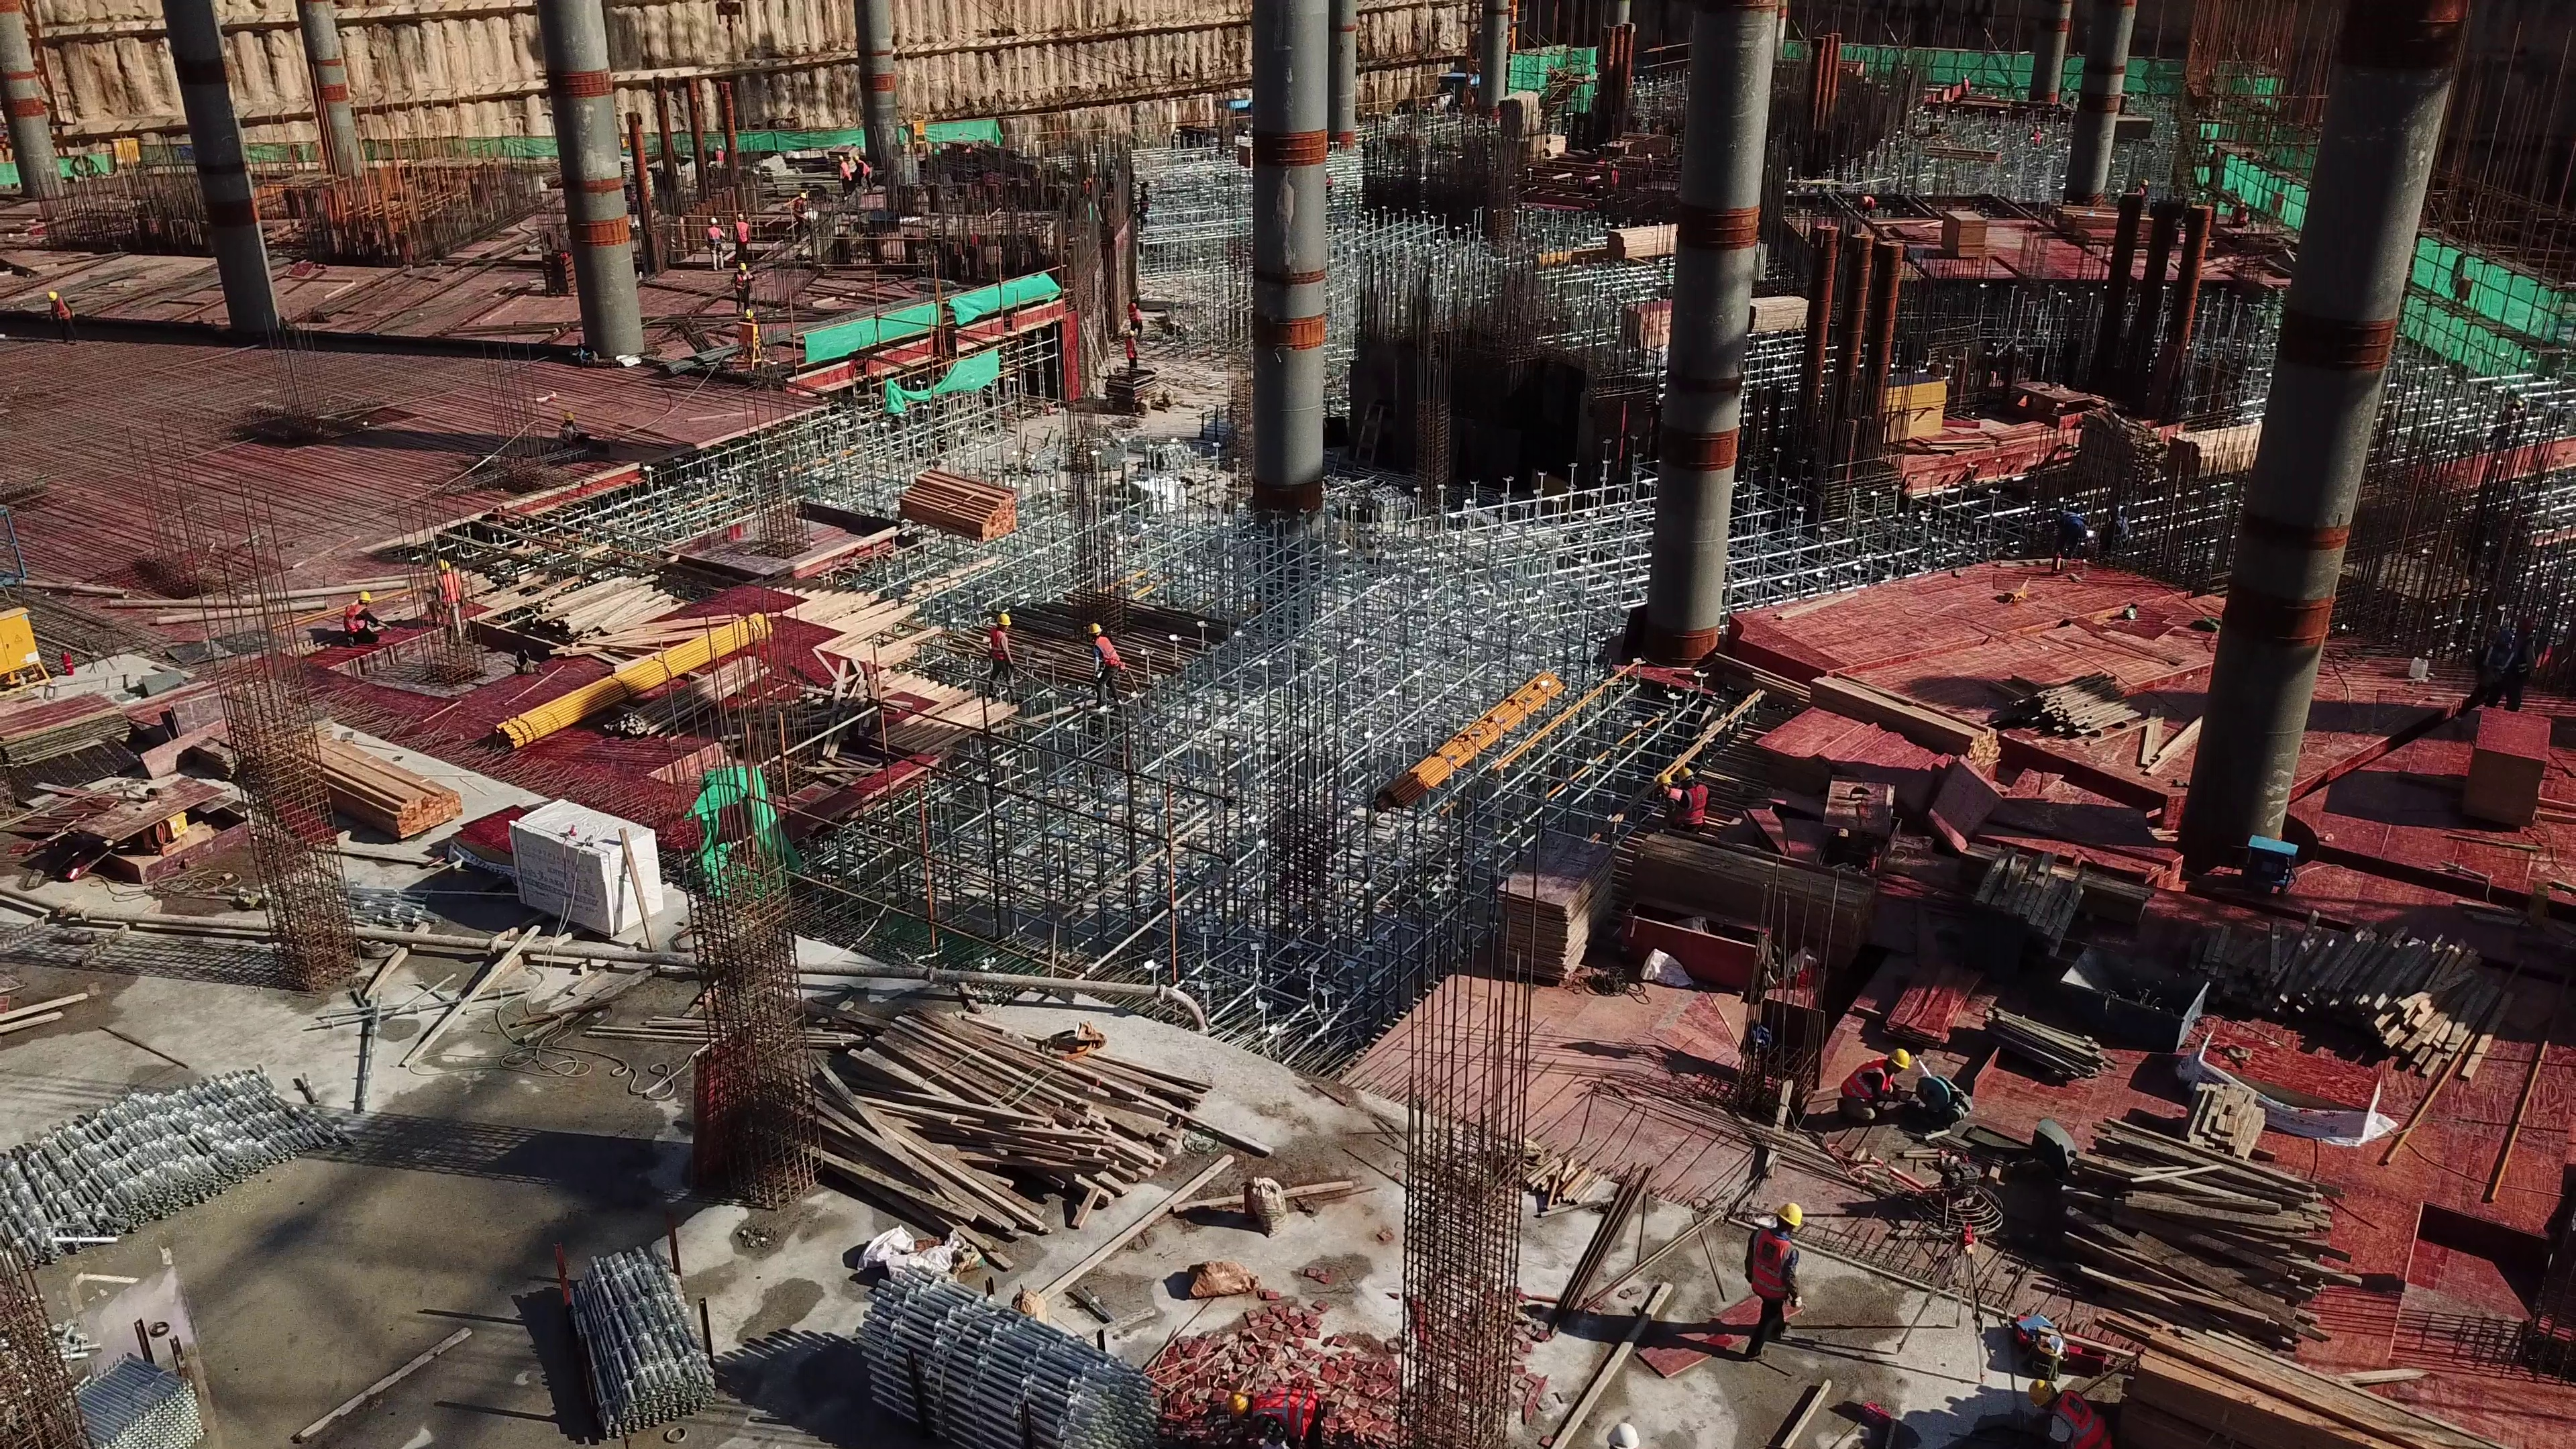board: (1761, 712, 1982, 815), (1498, 820, 1611, 982), (2463, 696, 2544, 833), (1829, 777, 1890, 854), (1943, 209, 1992, 263), (1625, 295, 1669, 352)
cutter: (1905, 1062, 1972, 1129)
ebox: (1, 600, 64, 686), (735, 321, 765, 372)
helmet: (1602, 1421, 1638, 1449), (2027, 1378, 2056, 1408), (1776, 1201, 1805, 1231), (1227, 1391, 1248, 1419), (1888, 1047, 1913, 1069), (1677, 766, 1694, 783), (1085, 622, 1101, 635), (1655, 775, 1674, 786), (996, 614, 1012, 627), (357, 590, 370, 602), (436, 560, 449, 570), (736, 262, 746, 272), (708, 217, 718, 225)
person: (1746, 1198, 1794, 1362), (1224, 1386, 1334, 1449), (2026, 1377, 2113, 1449), (1837, 1041, 1907, 1128), (1085, 623, 1120, 713), (431, 561, 464, 652), (1672, 763, 1709, 841), (340, 590, 389, 647), (985, 614, 1016, 692), (2049, 511, 2087, 562), (41, 286, 73, 345), (702, 217, 726, 274), (791, 193, 816, 244), (733, 265, 755, 318), (854, 152, 873, 194), (1122, 329, 1139, 374), (736, 215, 753, 262), (833, 152, 850, 198), (1129, 295, 1145, 340)
scaffold: (1, 1058, 332, 1269), (847, 1277, 1136, 1449), (559, 1254, 726, 1449)
vest: (2053, 1387, 2109, 1449), (1748, 1231, 1789, 1304), (1248, 1392, 1313, 1437), (1841, 1060, 1901, 1106), (1684, 785, 1709, 829), (1093, 637, 1119, 668), (341, 603, 367, 633), (985, 629, 1006, 663), (437, 577, 461, 605), (707, 226, 723, 251), (734, 222, 753, 245)
wood: (802, 989, 1182, 1242), (2198, 900, 2520, 1082), (2073, 1129, 2341, 1341), (247, 715, 455, 840), (2027, 678, 2186, 792), (1989, 845, 2101, 963), (551, 576, 669, 664), (894, 471, 1014, 553), (1607, 215, 1676, 262)
